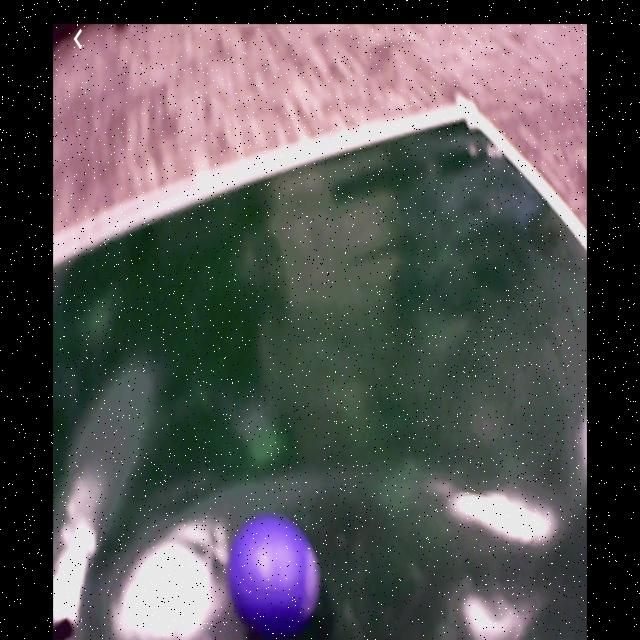ball: (228, 518, 319, 628)
